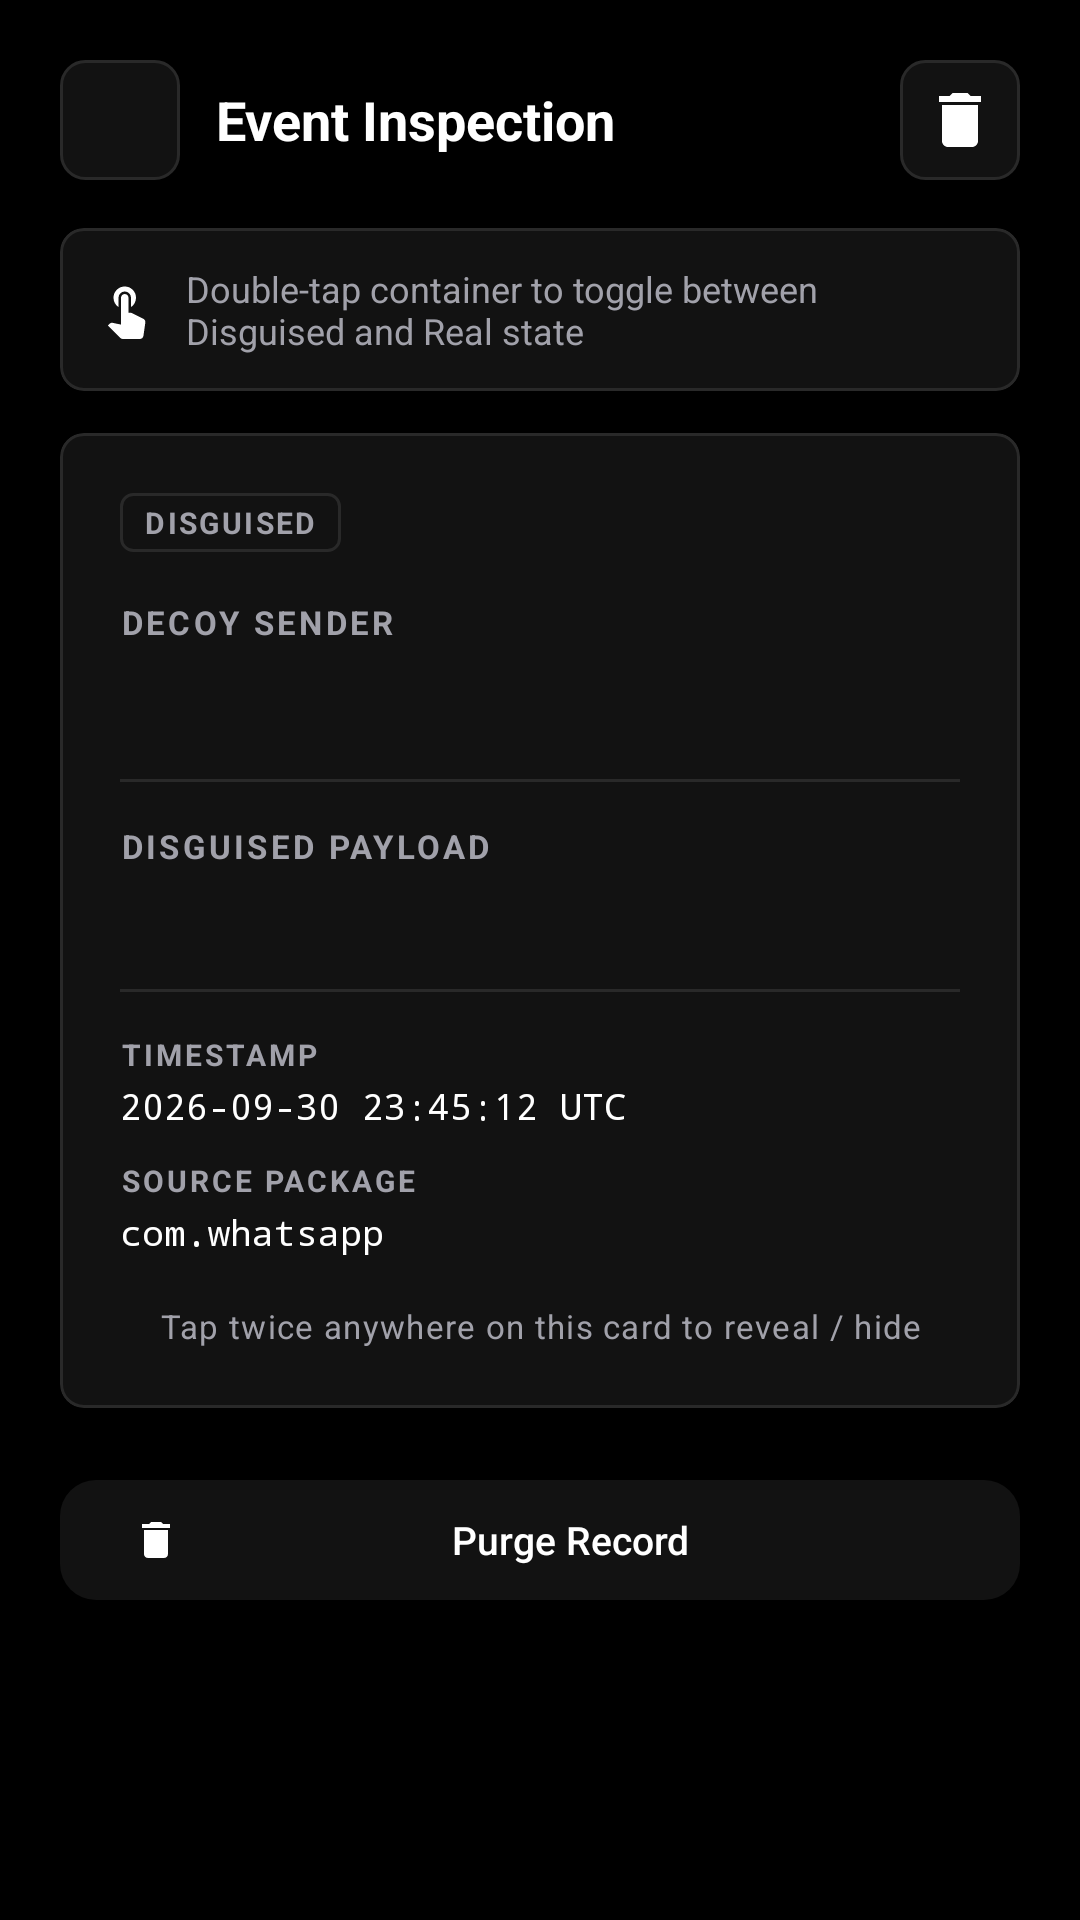

Where icons sit on this 1080 × 1920 app screen, as {"left": x1, "top": y1, "right": x2, "bottom": y2}:
Delete: {"left": 900, "top": 60, "right": 1020, "bottom": 180}
